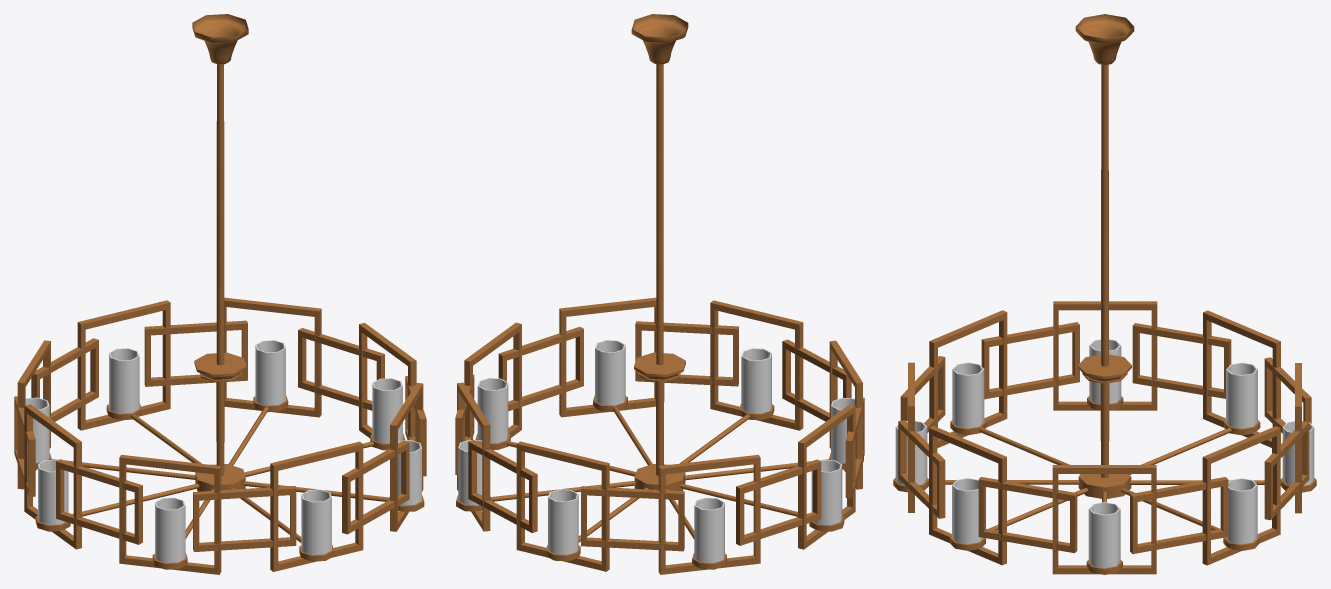
File: Lights_Chandelier_2.fbx
3 renders of one model, left to right at view 1: azimuth 30°, elevation 25°; view 2: azimuth 150°, elevation 25°; view 3: azimuth 270°, elevation 25°, orthographic.
Visible parts, largest first — view 1: Cylinder.033; view 2: Cylinder.033; view 3: Cylinder.033.
Part boxes in pixels (<box>): Cylinder.033: <box>14,14,426,574</box>; Cylinder.033: <box>455,14,864,574</box>; Cylinder.033: <box>893,14,1316,574</box>.
Size of the model in its own units: 216 by 261 by 216.
